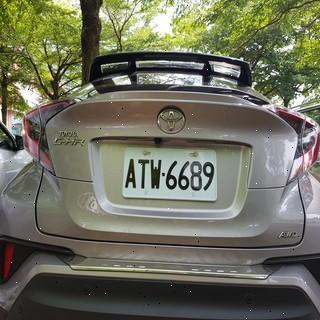license: (120, 152, 218, 196)
